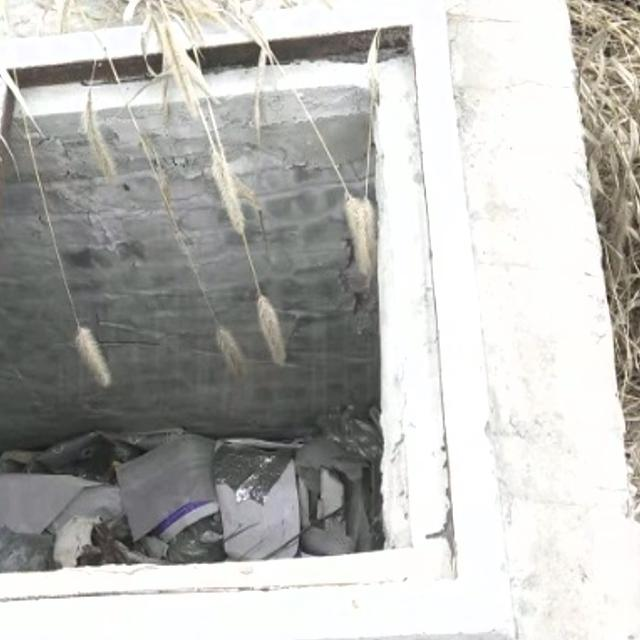lose: (0, 0, 518, 640)
